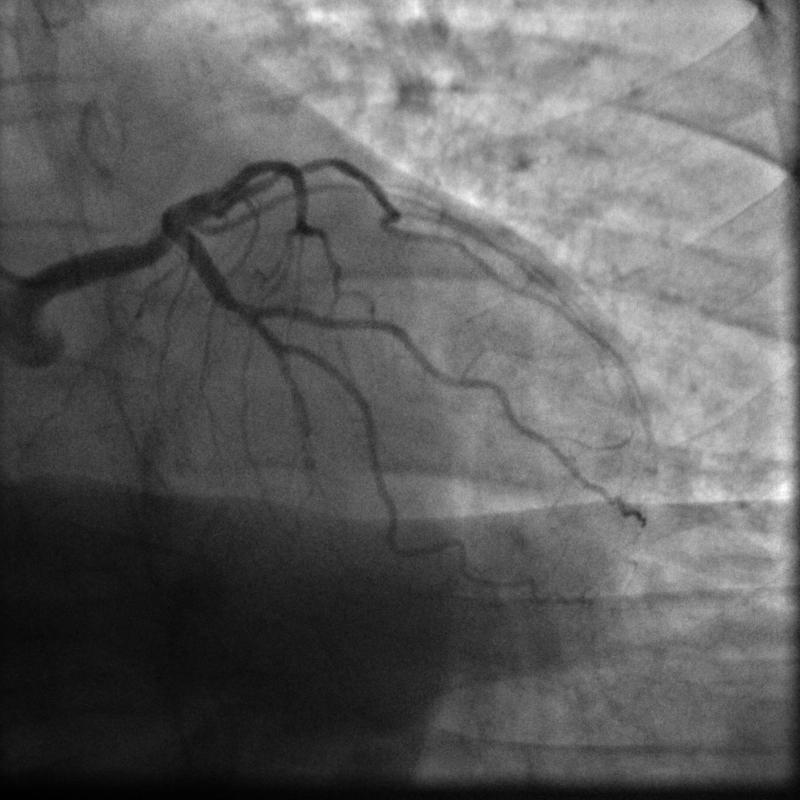Stenosis: (227, 281, 254, 332)
